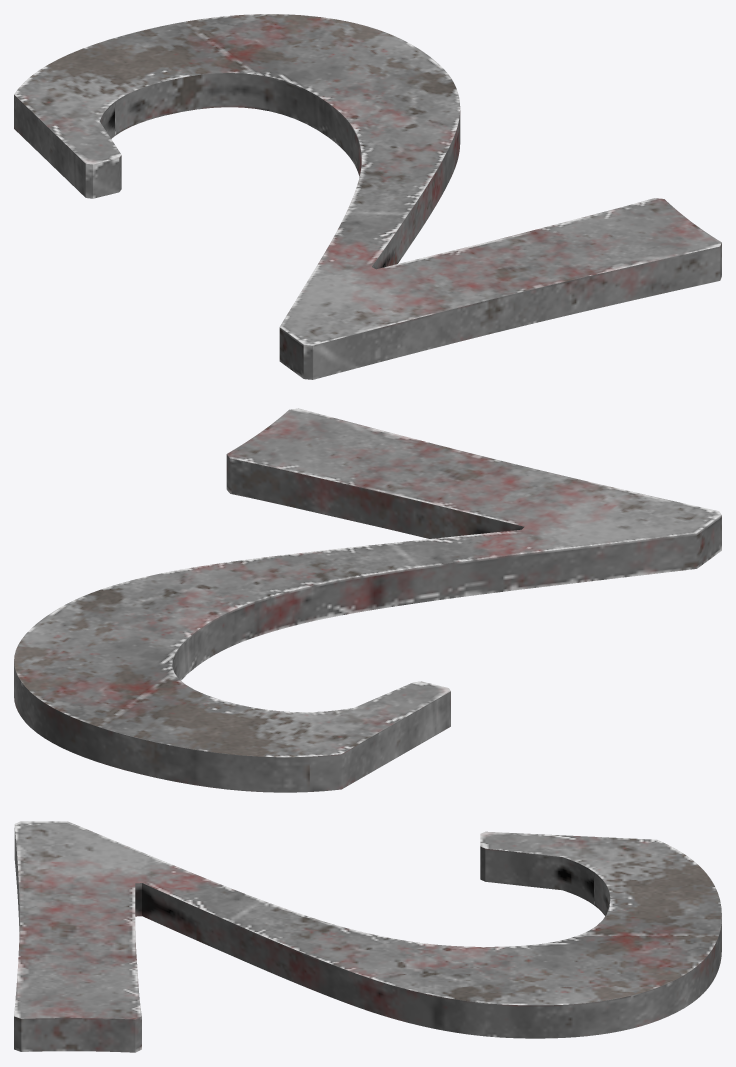
The model's file is counter_num_2.fbx.
The picture shows the model from 3 angles, top to bottom: view 1: azimuth 30°, elevation 25°; view 2: azimuth 150°, elevation 25°; view 3: azimuth 270°, elevation 25°; orthographic projection. The views are drawn at different scales.
Visible parts, largest first — view 1: 2; view 2: 2; view 3: 2.
Boxes of the visible parts, x1,y1,x2,y2 form: 2: [14, 14, 721, 379]; 2: [14, 408, 721, 792]; 2: [14, 821, 721, 1052].
Size of the model in its own units: 13 by 1.01 by 19.61.
